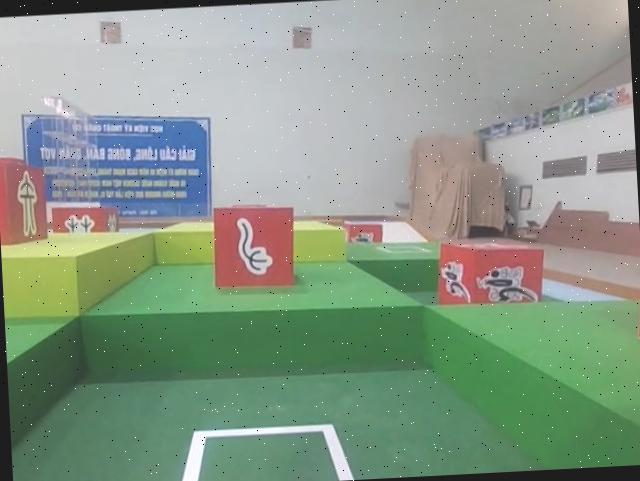R1: (437, 239, 543, 307)
R2 Fake: (0, 158, 48, 243)
R2 Real: (209, 201, 296, 291)
